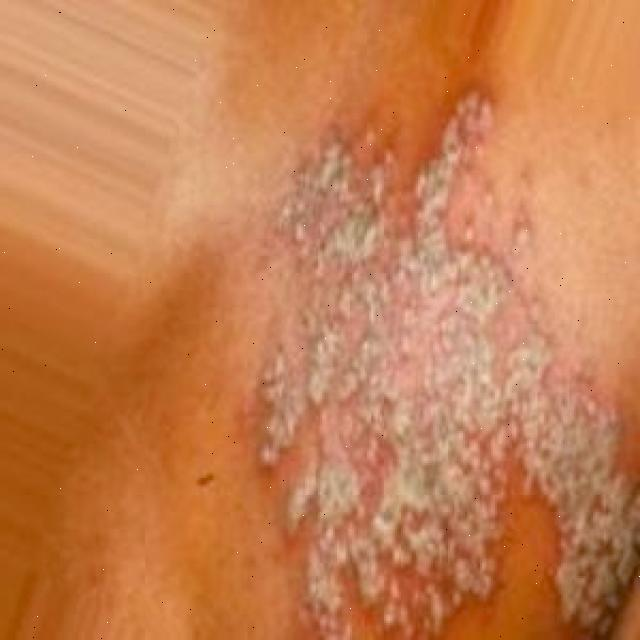Shingles: (262, 80, 640, 640)
